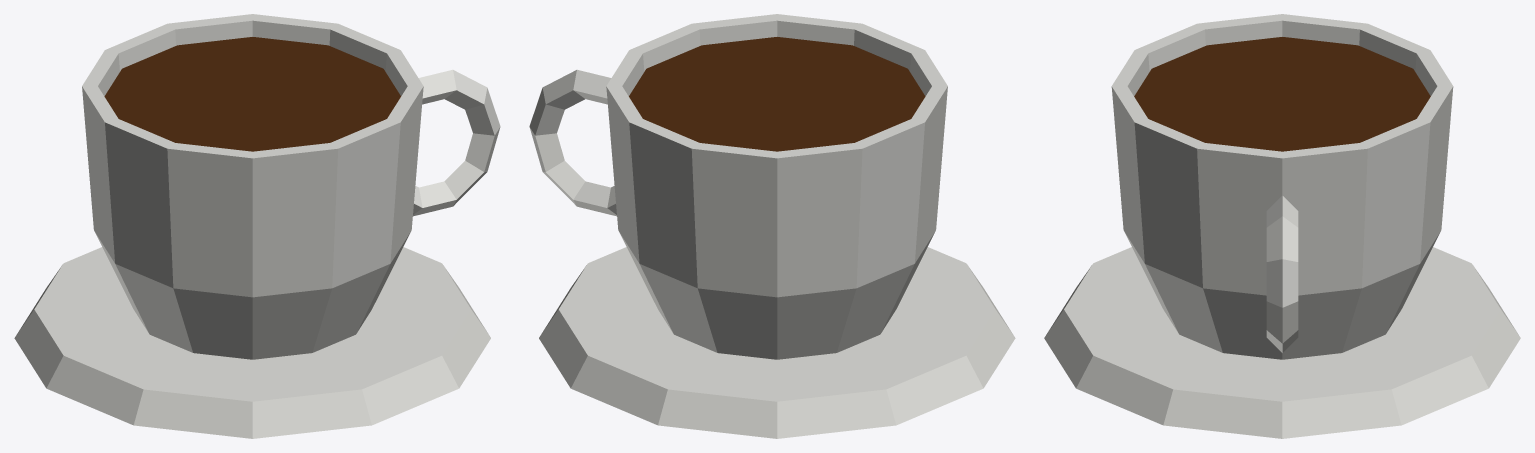
The model's file is coffee_cup.glb.
3 renders of one model, left to right at view 1: azimuth 30°, elevation 25°; view 2: azimuth 150°, elevation 25°; view 3: azimuth 270°, elevation 25°, orthographic.
Parts seen in each view (by area): view 1: coffee_cup; view 2: coffee_cup; view 3: coffee_cup.
Boxes of the visible parts, <box> form: coffee_cup: <box>14,14,500,438</box>; coffee_cup: <box>529,14,1015,438</box>; coffee_cup: <box>1044,14,1520,438</box>.
Bounding box in the file's own units: 0.132 × 0.07 × 0.12.
